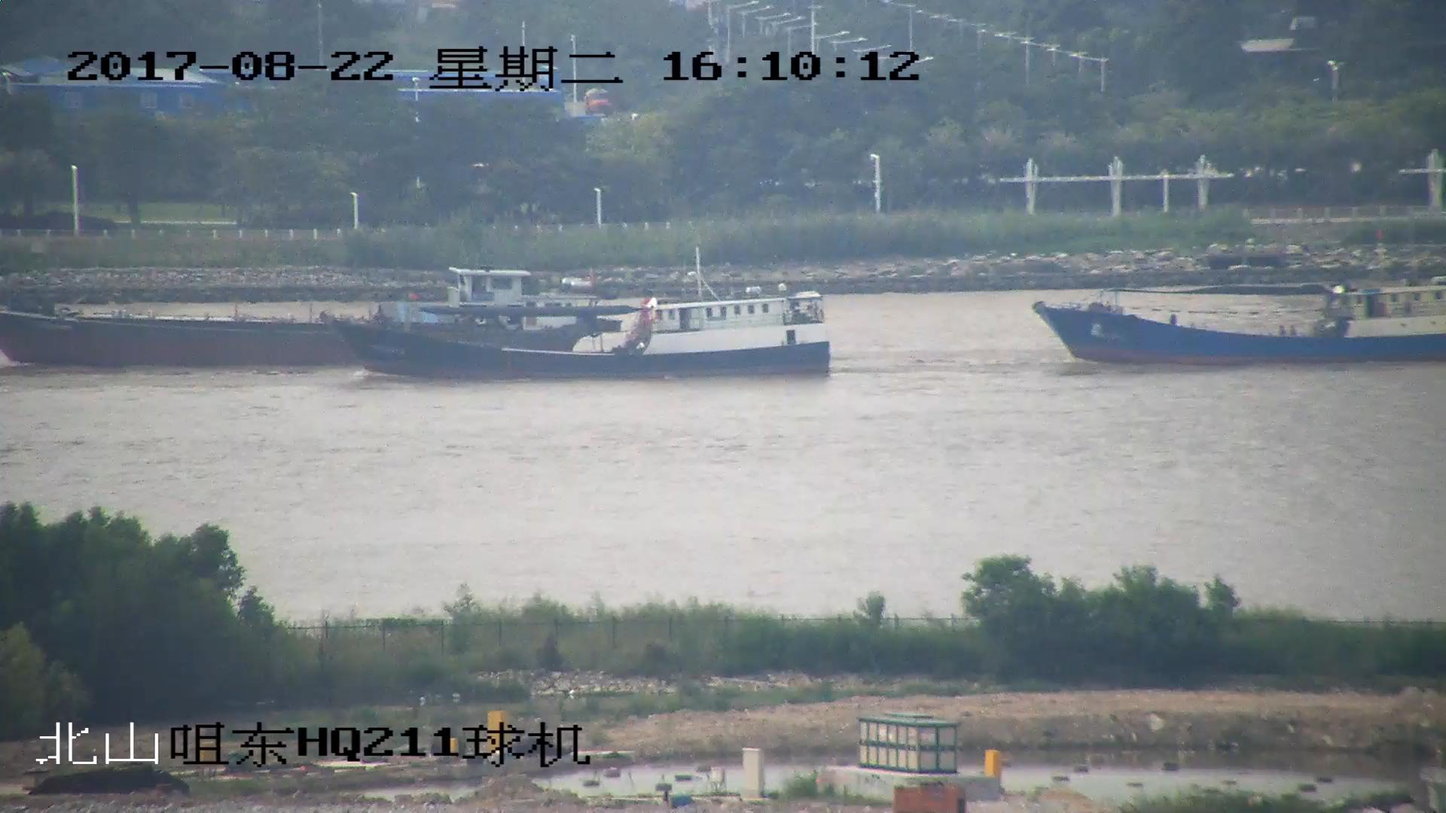bulk cargo carrier: (0, 266, 614, 358)
fishing boat: (325, 261, 828, 381), (1036, 280, 1445, 367)
